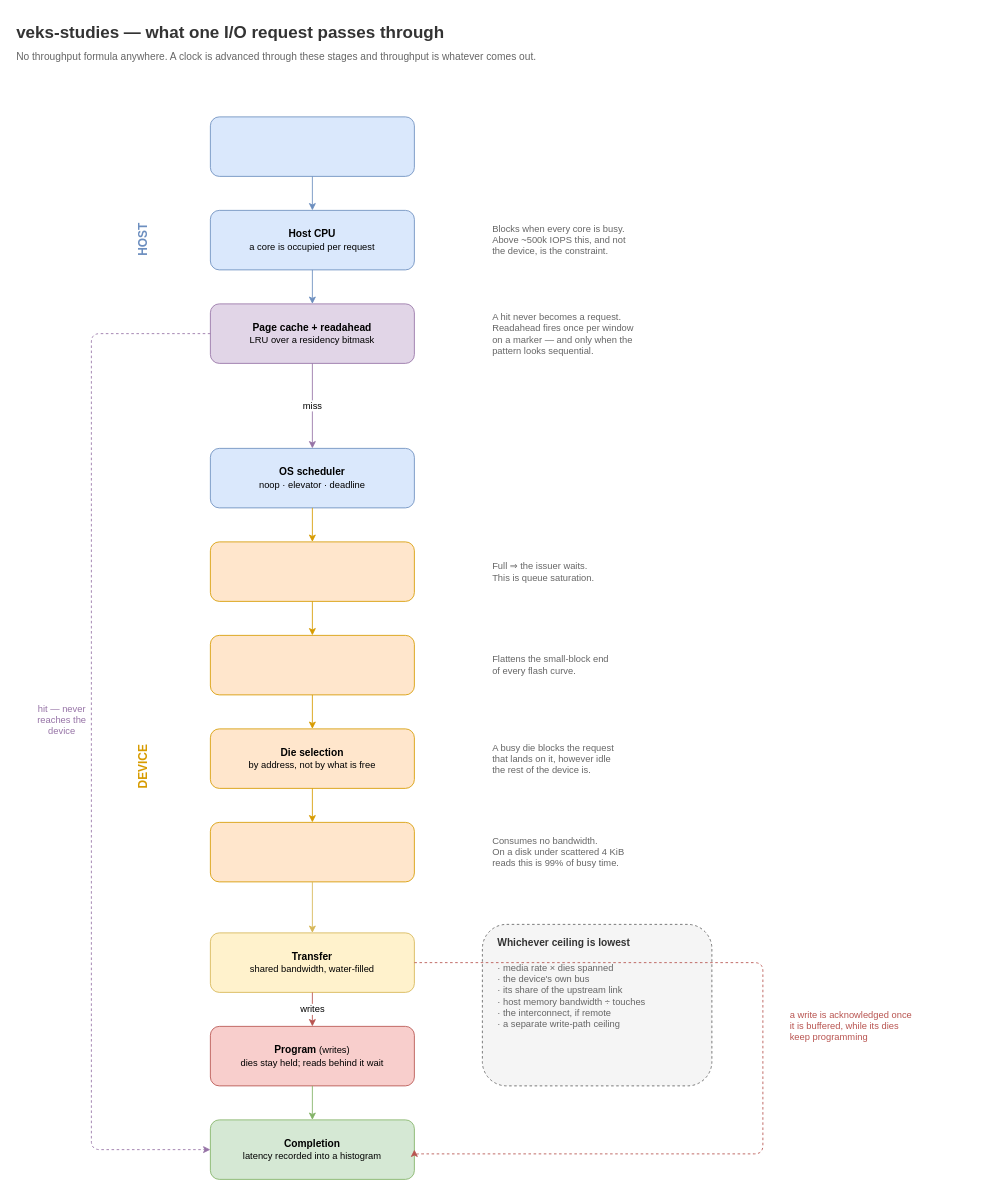
The diagram is 998 pixels wide and 1194 high, and some of its shapes have lost their labels. The shapes that lost their labels are listed below. From the top down, each one's centre as x and y in pixels, then its label:
At point 312,146: "Issuer synthetic workload, or an algorithm's replayed trace".
At point 312,571: "Queue slots what the device will hold".
At point 312,665: "Controller serial command rate".
At point 312,852: "Positioning seek + rotation, or NAND read".
